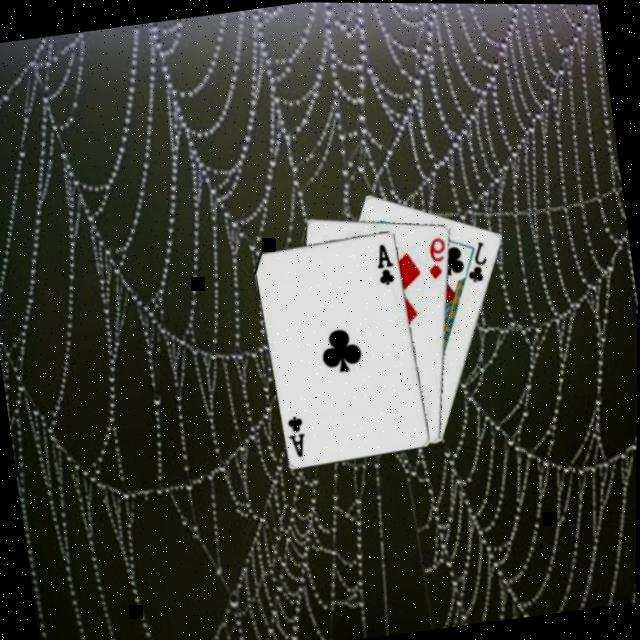9D: (422, 230, 453, 279)
AC: (284, 408, 312, 459), (372, 237, 400, 286)
JC: (462, 234, 495, 284)
